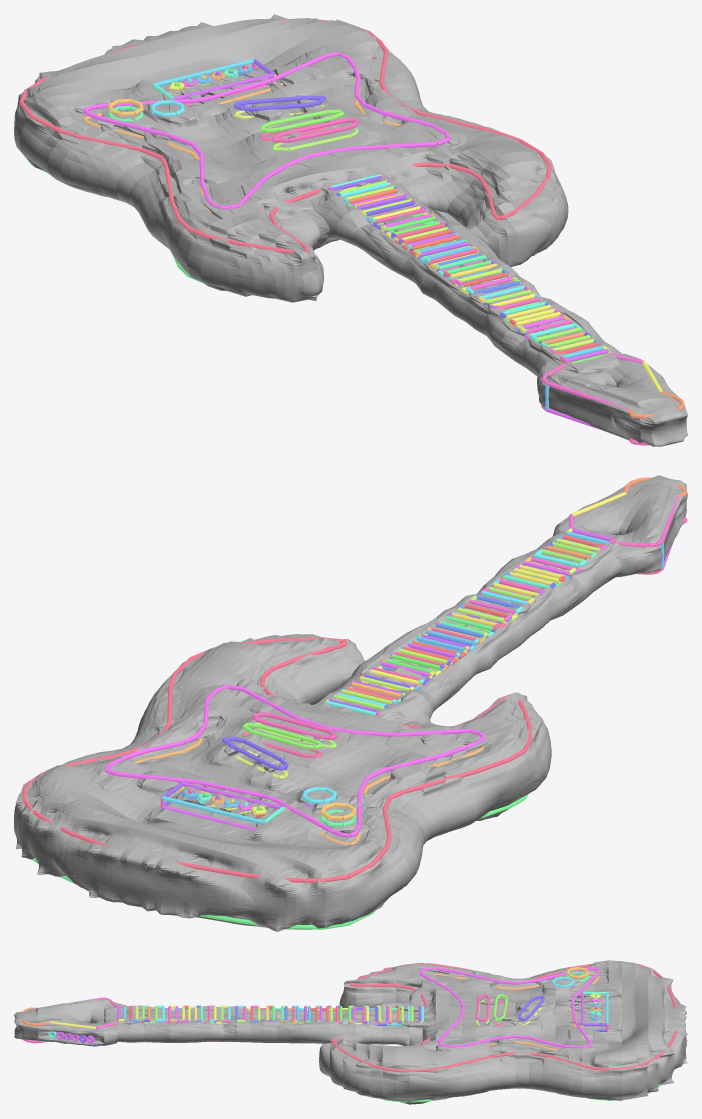
Rendered from onshape_guitar.gltf.
3 views of the same model, one above another, from view 1: azimuth 30°, elevation 25°; view 2: azimuth 150°, elevation 25°; view 3: azimuth 270°, elevation 25° (orthographic). The views are drawn at different scales.
Size of the model in its own units: 0.3839 by 0.0995 by 0.9539.
